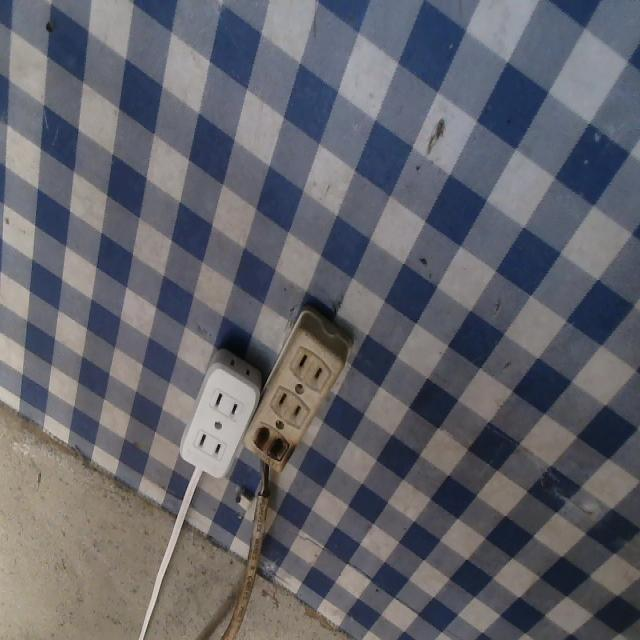-: (249, 420, 289, 467)
